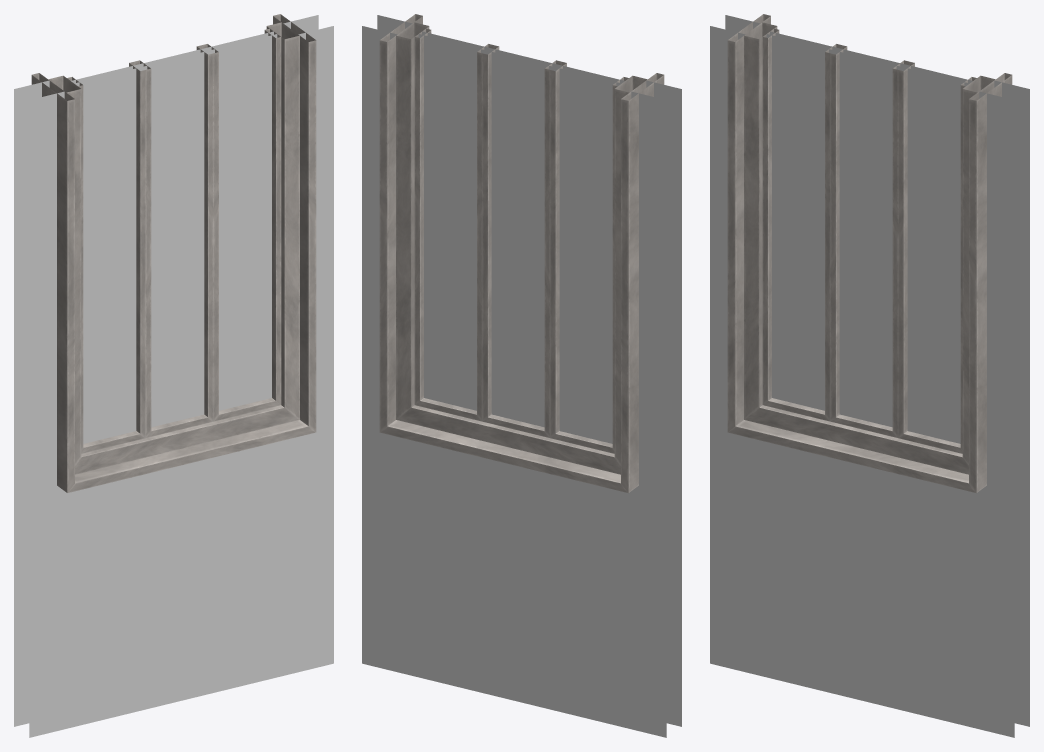
File: Wall_Window_D_F.fbx
The picture shows the model from 3 angles, left to right: view 1: azimuth 30°, elevation 25°; view 2: azimuth 150°, elevation 25°; view 3: azimuth 330°, elevation 25°; orthographic projection.
Parts seen in each view (by area): view 1: Wall_Window_D_F; view 2: Wall_Window_D_F; view 3: Wall_Window_D_F.
Part boxes in pixels (x1,y1,x2,y2): Wall_Window_D_F: [14, 14, 333, 737]; Wall_Window_D_F: [362, 14, 681, 737]; Wall_Window_D_F: [710, 14, 1029, 737].
Bounding box in the file's own units: 3 × 0.6115 × 6.
